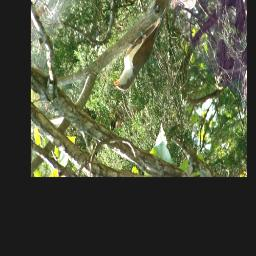Cuckoo: (112, 0, 173, 93)
